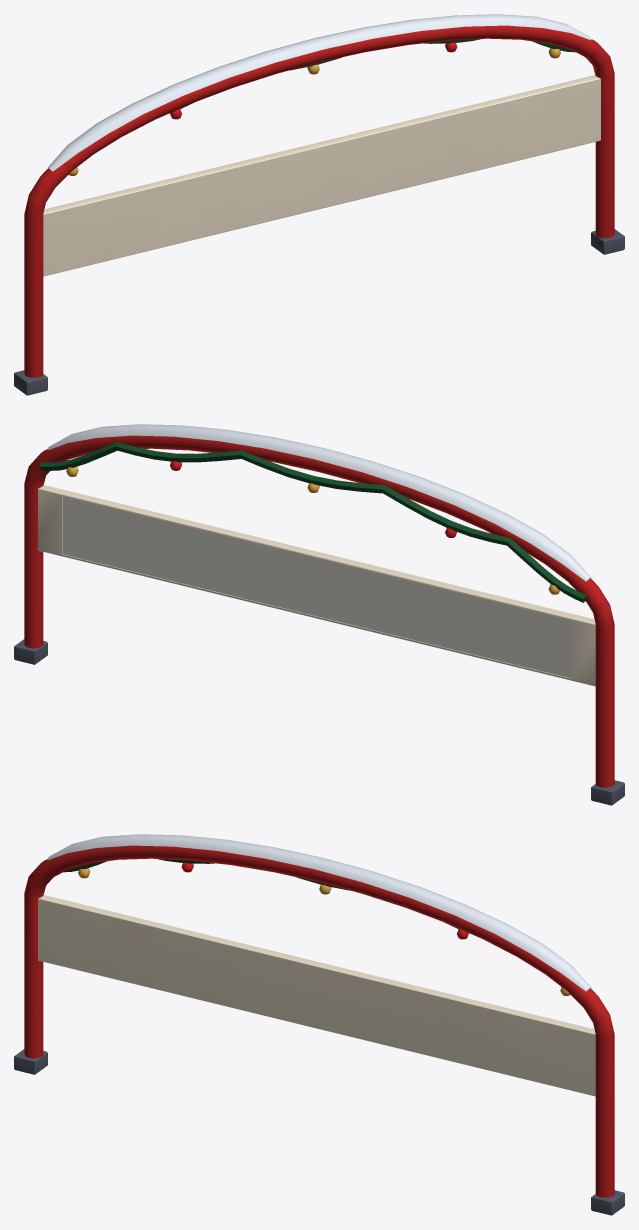
File: SM_Arch_Finish.glb
The picture shows the model from 3 angles, top to bottom: view 1: azimuth 30°, elevation 25°; view 2: azimuth 150°, elevation 25°; view 3: azimuth 330°, elevation 25°; orthographic projection.
Parts seen in each view (by area): view 1: SM_Arch_Finish; view 2: SM_Arch_Finish, SignFace; view 3: SM_Arch_Finish.
Part boxes in pixels (<box>): SM_Arch_Finish: <box>14,14,624,395</box>; SM_Arch_Finish: <box>14,424,624,805</box>; SignFace: <box>63,497,571,678</box>; SM_Arch_Finish: <box>14,834,624,1215</box>.
Bounding box in the file's own units: 25.9 × 11.55 × 1.18.
Materials: 2 (2 with a texture image).
